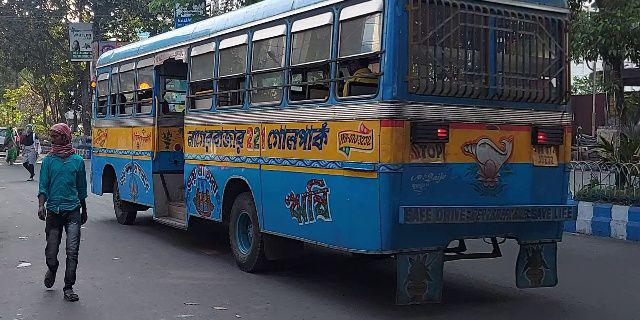Bus: (88, 1, 575, 304)
